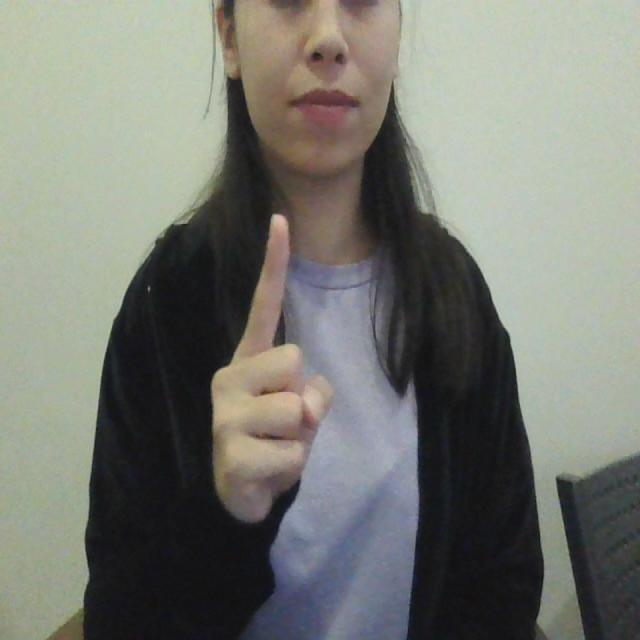Hayir: (202, 202, 341, 546)
